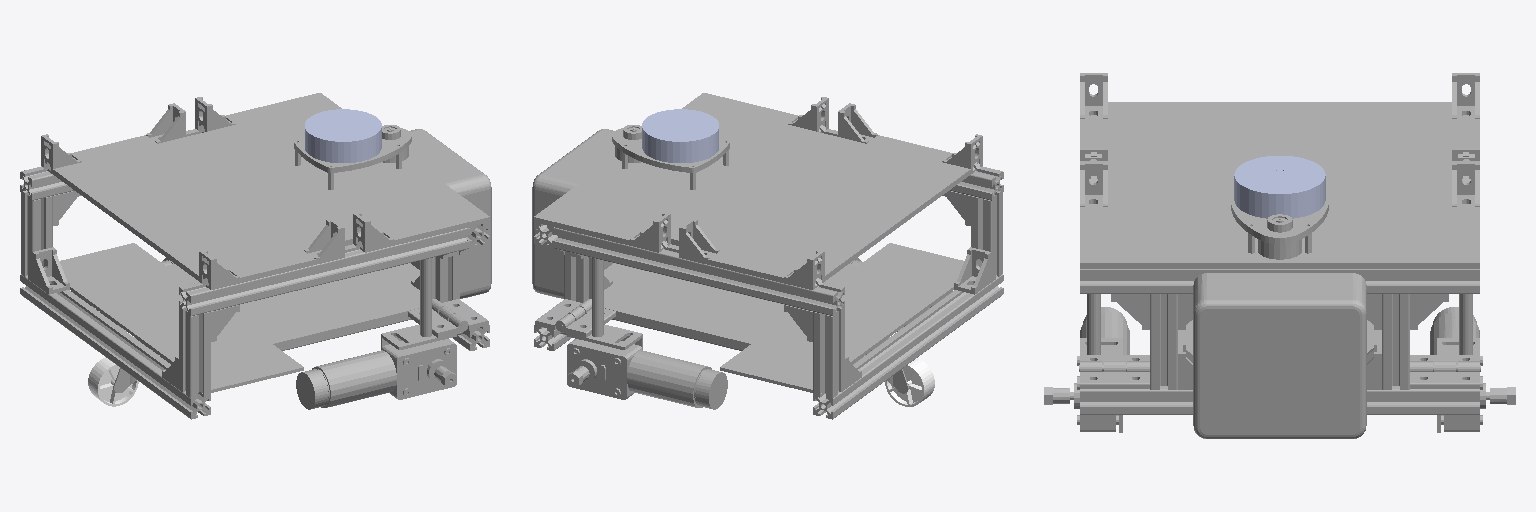
The robot description file, URDF, robot "nav_tf_urdf2":
<?xml version="1.0" encoding="utf-8"?>
<!-- This URDF was automatically created by SolidWorks to URDF Exporter! Originally created by [author] ([email redacted]) 
     Commit Version: 1.6.0-4-g7f85cfe  Build Version: 1.6.7995.38578
     For more information, please see http://wiki.ros.org/sw_urdf_exporter -->
<robot
  name="nav_tf_urdf2">
  <link name="base_footprint"/>
  <joint name="base_joint" type="fixed">
    <parent link="base_footprint"/>
    <child link="base_link"/>
    <origin xyz="8.16192517514196E-12 1.07956846779918E-12 3.98641313889376E-12" rpy="0 0 0" />
  </joint>
  <link
    name="base_link">
    <inertial>
      <origin
        xyz="8.16192517514196E-12 1.07956846779918E-12 3.98641313889376E-12"
        rpy="0 0 0" />
      <mass
        value="2.4556334802297" />
      <inertia
        ixx="0.00582594596712262"
        ixy="-1.53333170944841E-09"
        ixz="6.09425077099953E-06"
        iyy="0.00588389849656267"
        iyz="5.54498496348948E-09"
        izz="0.010210248943553" />
    </inertial>
    <visual>
      <origin
        xyz="0 0 0"
        rpy="0 0 0" />
      <geometry>
        <mesh
          filename="package://nav_tf_urdf2/meshes/base_link.STL" />
      </geometry>
      <material
        name="">
        <color
          rgba="0.752941176470588 0.752941176470588 0.752941176470588 1" />
      </material>
    </visual>
    <collision>
      <origin
        xyz="0 0 0"
        rpy="0 0 0" />
      <geometry>
        <mesh
          filename="package://nav_tf_urdf2/meshes/base_link.STL" />
      </geometry>
    </collision>
  </link>
  <link
    name="base_scan">
    <inertial>
      <origin
        xyz="0 -2.72645823035773E-07 0.00994901655834558"
        rpy="0 0 0" />
      <mass
        value="0.0660277715680958" />
      <inertia
        ixx="1.96156877893574E-05"
        ixy="-2.88230053245097E-24"
        ixz="-1.84238822538488E-21"
        iyy="1.96156117763069E-05"
        iyz="-6.79408546228102E-21"
        izz="3.48742138584865E-05" />
    </inertial>
    <visual>
      <origin
        xyz="0 0 0"
        rpy="0 0 0" />
      <geometry>
        <mesh
          filename="package://nav_tf_urdf2/meshes/base_scan.STL" />
      </geometry>
      <material
        name="">
        <color
          rgba="0.792156862745098 0.819607843137255 0.933333333333333 1" />
      </material>
    </visual>
    <collision>
      <origin
        xyz="0 0 0"
        rpy="0 0 0" />
      <geometry>
        <mesh
          filename="package://nav_tf_urdf2/meshes/base_scan.STL" />
      </geometry>
    </collision>
  </link>
  <joint
    name="scan_joint"
    type="continuous">
    <origin
      xyz="0.0120740335852946 0 0.0743670768316607"
      rpy="0 0 0" />
    <parent
      link="base_link" />
    <child
      link="base_scan" />
    <axis
      xyz="0 0 -1" />
    <limit
      lower="0"
      upper="0"
      effort="0"
      velocity="0" />
  </joint>
  <link
    name="left_wheel_link">
    <inertial>
      <origin
        xyz="-0.0150471339237869 -1.947730171592E-12 8.32667268468867E-17"
        rpy="0 0 0" />
      <mass
        value="0.0901982674382036" />
      <inertia
        ixx="0.000104914037889676"
        ixy="7.89015809171247E-16"
        ixz="1.05089063910995E-19"
        iyy="5.86007633745242E-05"
        iyz="9.78327924518164E-16"
        izz="5.86007633597741E-05" />
    </inertial>
    <visual>
      <origin
        xyz="0 0 0"
        rpy="0 0 0" />
      <geometry>
        <mesh
          filename="package://nav_tf_urdf2/meshes/left_wheel_link.STL" />
      </geometry>
      <material
        name="">
        <color
          rgba="0.250980392156863 0.250980392156863 0.250980392156863 1" />
      </material>
    </visual>
    <collision>
      <origin
        xyz="0 0 0"
        rpy="0 0 0" />
      <geometry>
        <mesh
          filename="package://nav_tf_urdf2/meshes/left_wheel_link.STL" />
      </geometry>
    </collision>
  </link>
  <joint
    name="left_wheel_joint"
    type="continuous">
    <origin
      xyz="0.0198240335852944 0.154499727354178 -0.0756329231683387"
      rpy="0.037411098547317 0 -1.5707963267949" />
    <parent
      link="base_link" />
    <child
      link="left_wheel_link" />
    <axis
      xyz="1 0 0" />
  </joint>
  <link
    name="right_wheel_link">
    <inertial>
      <origin
        xyz="-0.0150471339237868 -1.94670668474117E-12 -2.15105711021124E-16"
        rpy="0 0 0" />
      <mass
        value="0.0901982674382035" />
      <inertia
        ixx="0.000104914037889676"
        ixy="7.8895368961215E-16"
        ixz="2.69043914054597E-19"
        iyy="5.86007633745242E-05"
        iyz="9.78318818913981E-16"
        izz="5.86007633597741E-05" />
    </inertial>
    <visual>
      <origin
        xyz="0 0 0"
        rpy="0 0 0" />
      <geometry>
        <mesh
          filename="package://nav_tf_urdf2/meshes/right_wheel_link.STL" />
      </geometry>
      <material
        name="">
        <color
          rgba="0.250980392156863 0.250980392156863 0.250980392156863 1" />
      </material>
    </visual>
    <collision>
      <origin
        xyz="0 0 0"
        rpy="0 0 0" />
      <geometry>
        <mesh
          filename="package://nav_tf_urdf2/meshes/right_wheel_link.STL" />
      </geometry>
    </collision>
  </link>
  <joint
    name="right_wheel_joint"
    type="continuous">
    <origin
      xyz="0.0198240335852952 -0.154500272645823 -0.0756329231683371"
      rpy="-1.77866827099237 0 1.5707963267949" />
    <parent
      link="base_link" />
    <child
      link="right_wheel_link" />
    <axis
      xyz="1 0 0" />
  </joint>
  <link
    name="caster_link">
    <inertial>
      <origin
        xyz="0.00660393903079727 -2.77555756156289E-17 -1.38777878078145E-17"
        rpy="0 0 0" />
      <mass
        value="0.01152385226836" />
      <inertia
        ixx="2.43995864492354E-06"
        ixy="-1.58156933120139E-21"
        ixz="1.66139226031276E-21"
        iyy="1.40033256895839E-06"
        iyz="-9.66146955461936E-22"
        izz="1.40033256895839E-06" />
    </inertial>
    <visual>
      <origin
        xyz="0 0 0"
        rpy="0 0 0" />
      <geometry>
        <mesh
          filename="package://nav_tf_urdf2/meshes/caster_link.STL" />
      </geometry>
      <material
        name="">
        <color
          rgba="1 1 1 1" />
      </material>
    </visual>
    <collision>
      <origin
        xyz="0 0 0"
        rpy="0 0 0" />
      <geometry>
        <mesh
          filename="package://nav_tf_urdf2/meshes/caster_link.STL" />
      </geometry>
    </collision>
  </link>
  <joint
    name="caster_joint"
    type="continuous">
    <origin
      xyz="-0.20968995832357 0.00718168989947333 -0.0906329231683387"
      rpy="-3.06614609532378 0 -1.60503203312362" />
    <parent
      link="base_link" />
    <child
      link="caster_link" />
    <axis
      xyz="1 0 0" />
  </joint>
</robot>

--- What the picture shows (computed from the rendered views, not written in the file) ---
3 views of the same robot in one strip: view 1: azimuth 30°, elevation 25°; view 2: azimuth 150°, elevation 25°; view 3: azimuth 270°, elevation 25° (orthographic).
Robot: nav_tf_urdf2 — 6 links, 5 joints (4 continuous, 1 fixed); root link base_footprint; default pose: every joint at zero.
Links seen in each view (by area): view 1: base_link, base_scan, caster_link; view 2: base_link, base_scan, caster_link; view 3: base_link, base_scan.
Boxes of the visible links, x1,y1,x2,y2 form: base_link: (20,93,491,419); base_scan: (305,109,381,162); caster_link: (88,357,138,406); base_link: (532,93,1003,419); base_scan: (642,109,718,162); caster_link: (885,358,934,406); base_link: (1044,73,1515,438); base_scan: (1234,156,1325,218).
Size in the robot's own frame: 0.3518 by 0.335 by 0.2043 metres.
3 mesh visuals loaded from 5 distinct referenced files (3 binary STL); not drawn: 2 (reference not matched to a file when rendering).